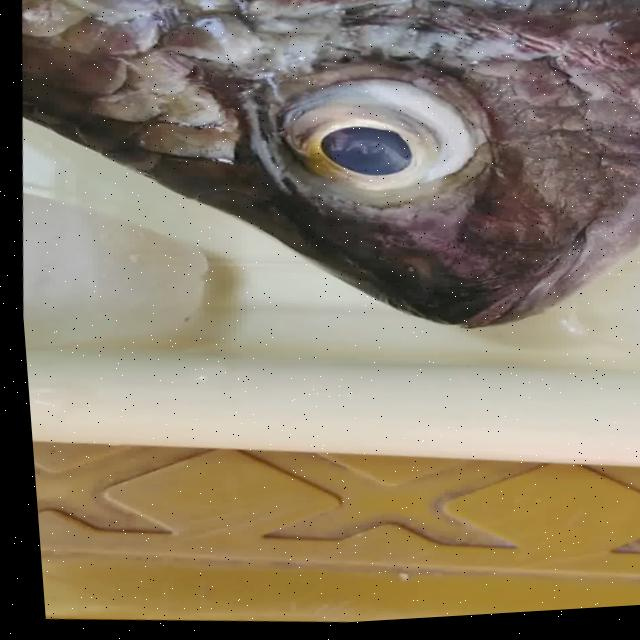Fresh: (183, 32, 535, 262)
